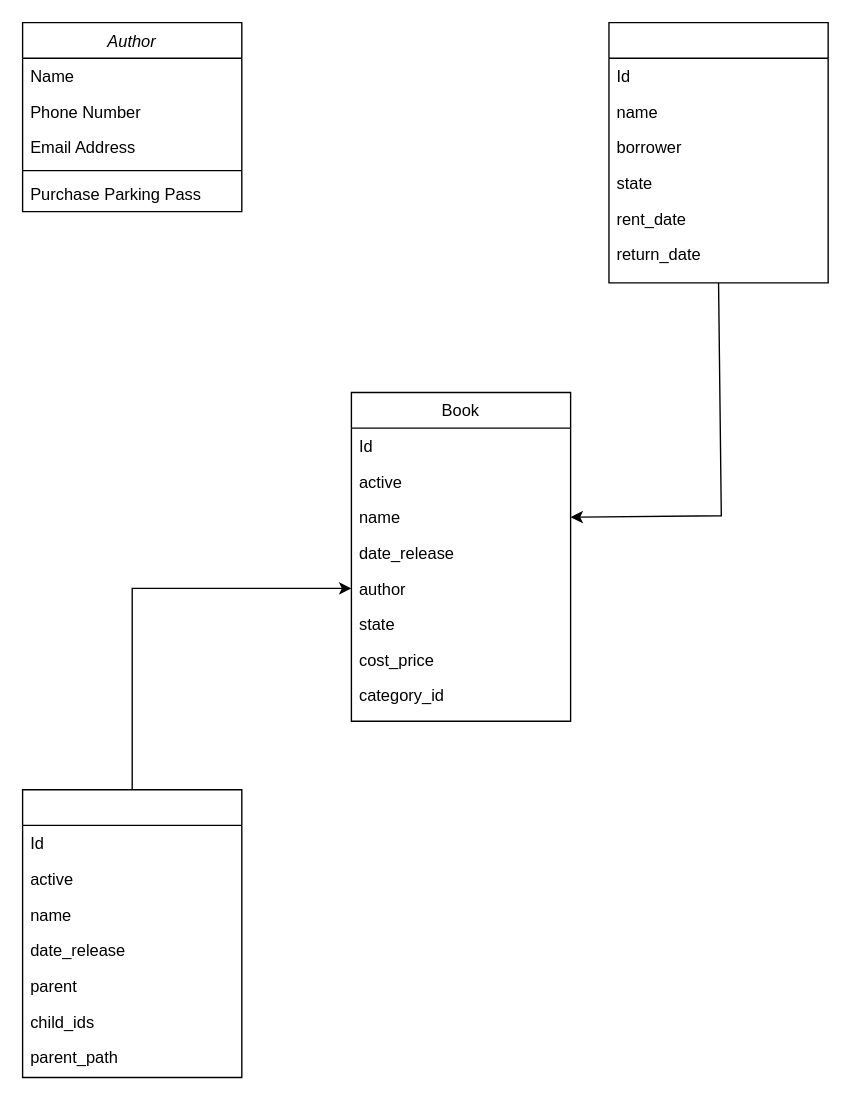
The diagram is 851 pixels wide and 1100 high, and some of its shapes have lost their labels. The box of each missing label's shape, as (x1, y1, x2, y2) in pixels:
BookRent: (608, 21, 828, 283)
Category: (21, 788, 242, 1078)
